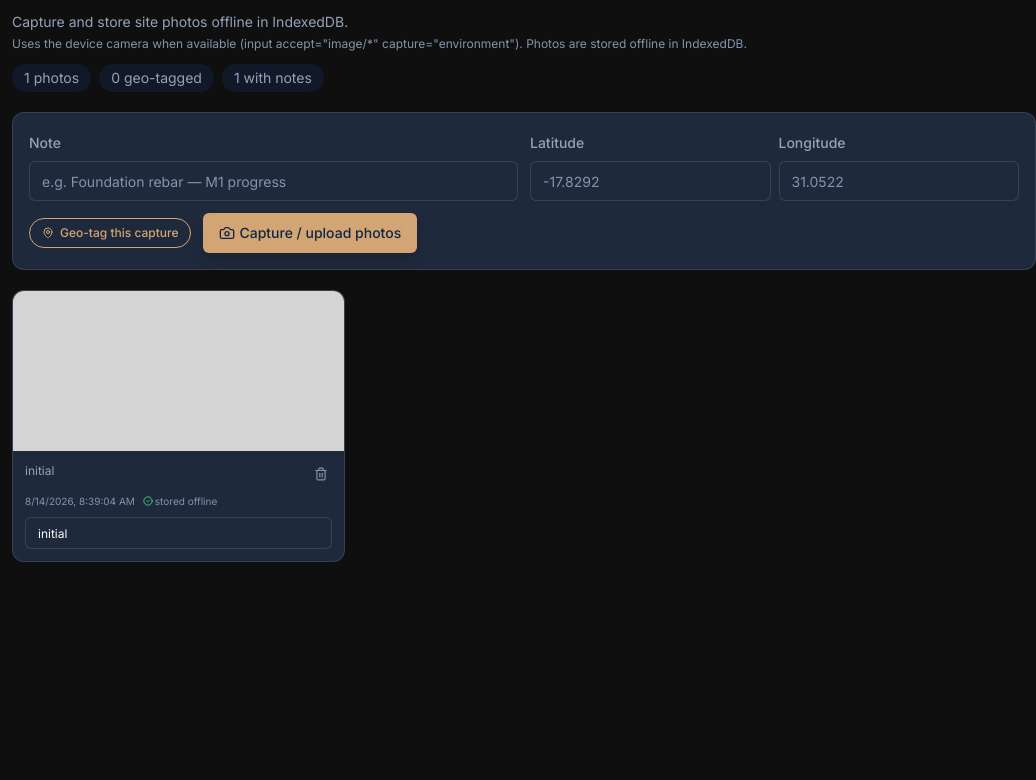
Scenario: SitePhotoPanel — edit note flow › persists an edited note on blur
Expected: the text "initial" is shown, [25,463,54,479]
Replace the text in the field with placeholder "Edit note" with "revised": x=179, y=533 [25,517,332,549]
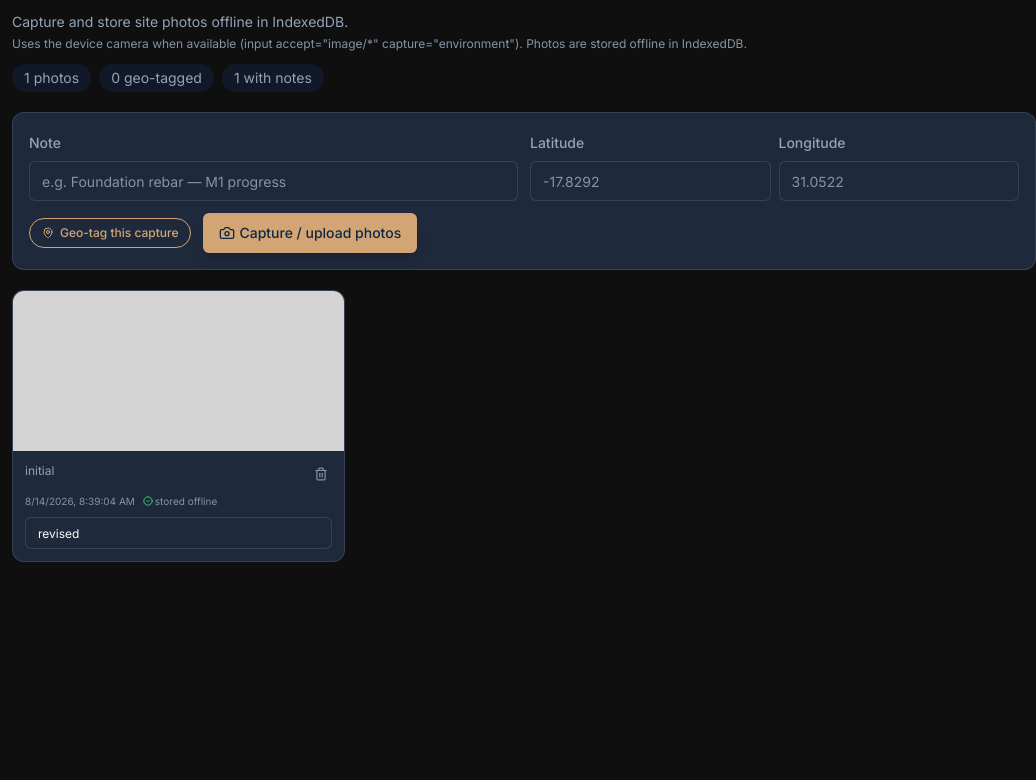
Leave the field with placeholder "Edit note", box [25,517,332,549]
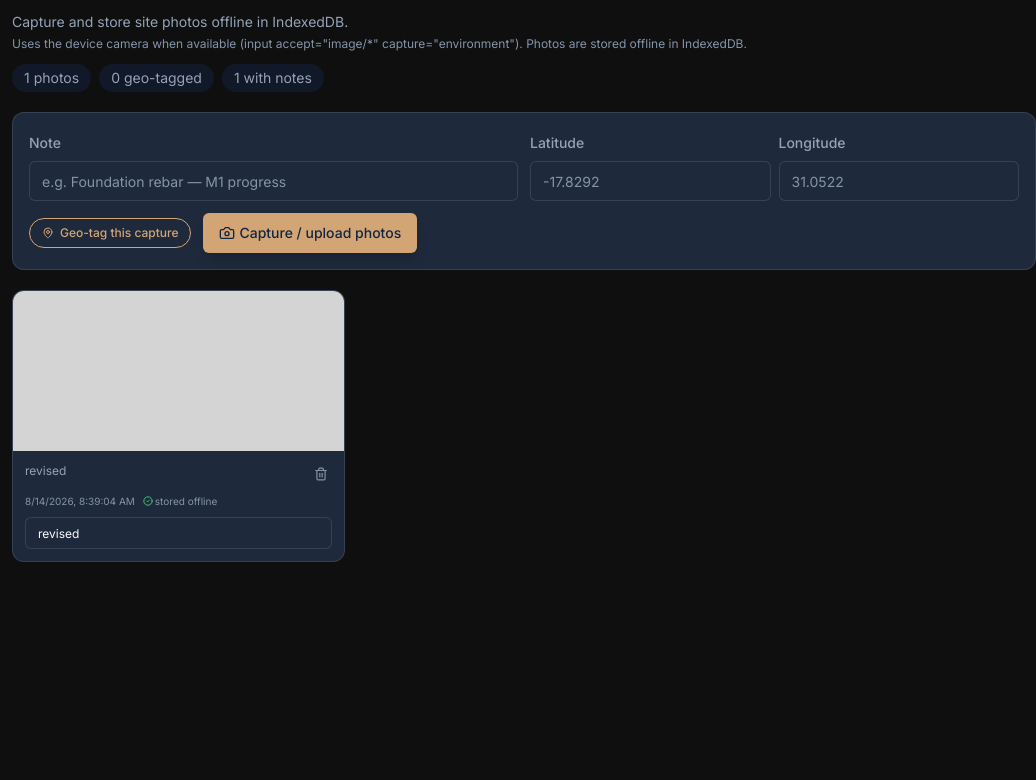
Expected: the text "initial" reads "revised", [25,463,66,478]
